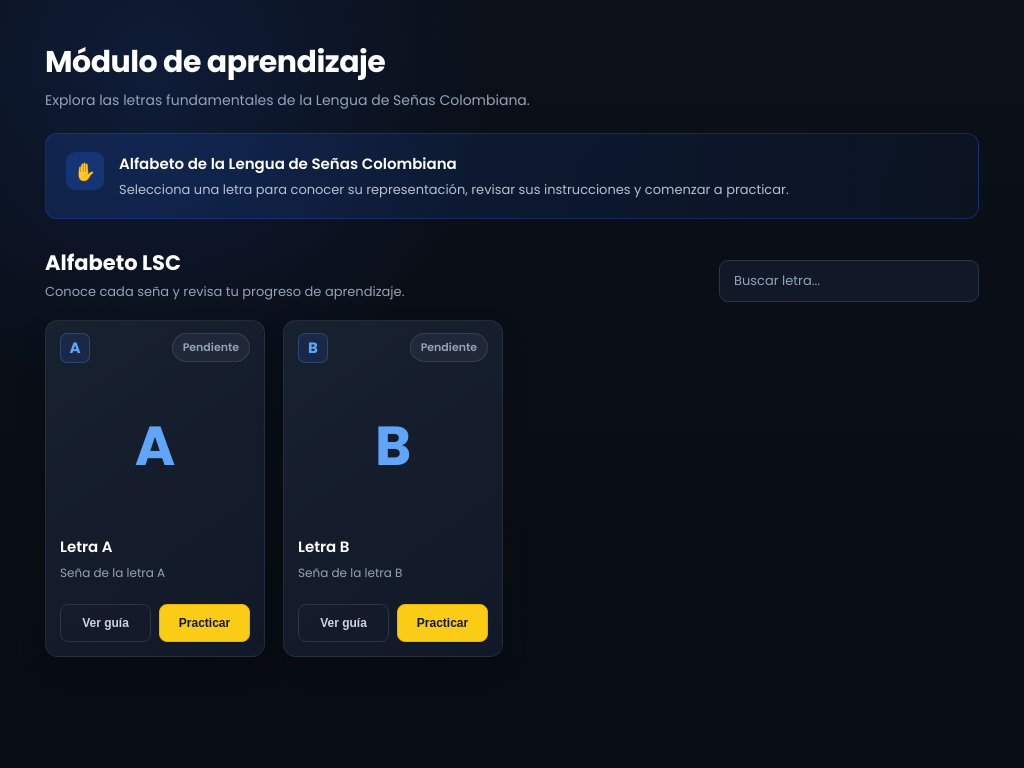
Test: Modulo Aprender › abre el detalle de una letra
Click the button named "Ver detalle de la letra A". click: (155, 446)
box: left=60, top=370, right=250, bottom=520
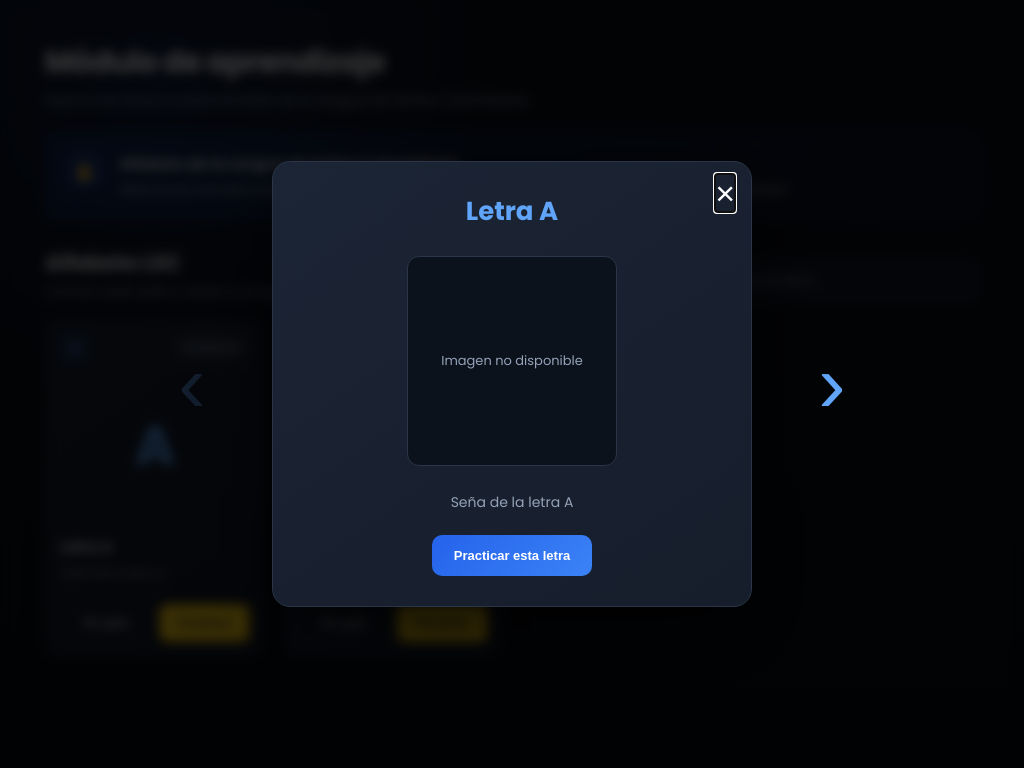
Result: the button named "Cerrar" is shown at left=715, top=176, right=735, bottom=210
